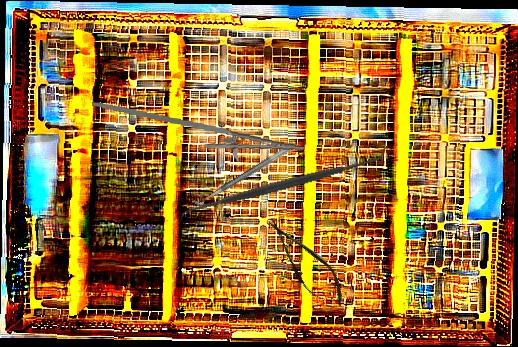Fixation Ring: (187, 137, 292, 209)
Micro Scissor: (256, 209, 355, 317)
Needle Holder: (88, 100, 308, 168)
Spatula Surgical: (174, 145, 393, 224)
